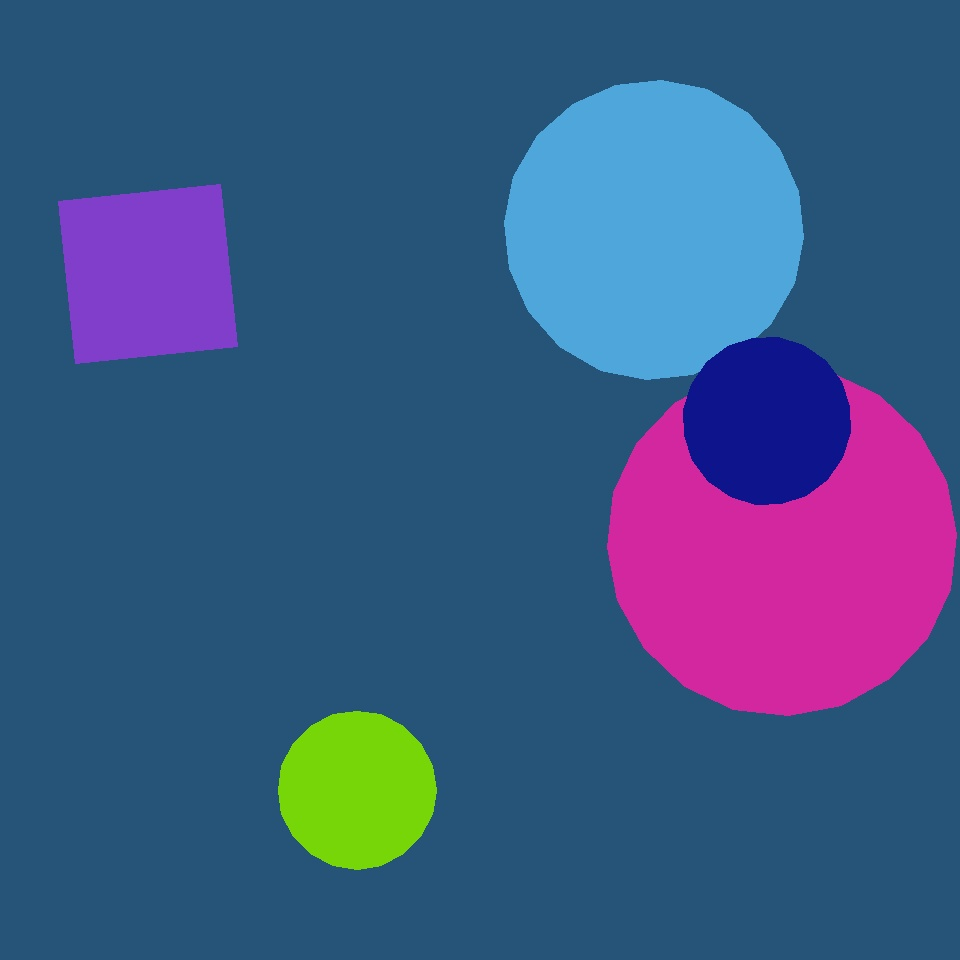square: (59, 184, 238, 364)
triangle: (608, 367, 956, 716), (504, 80, 804, 380), (684, 338, 850, 504), (278, 711, 436, 869)
